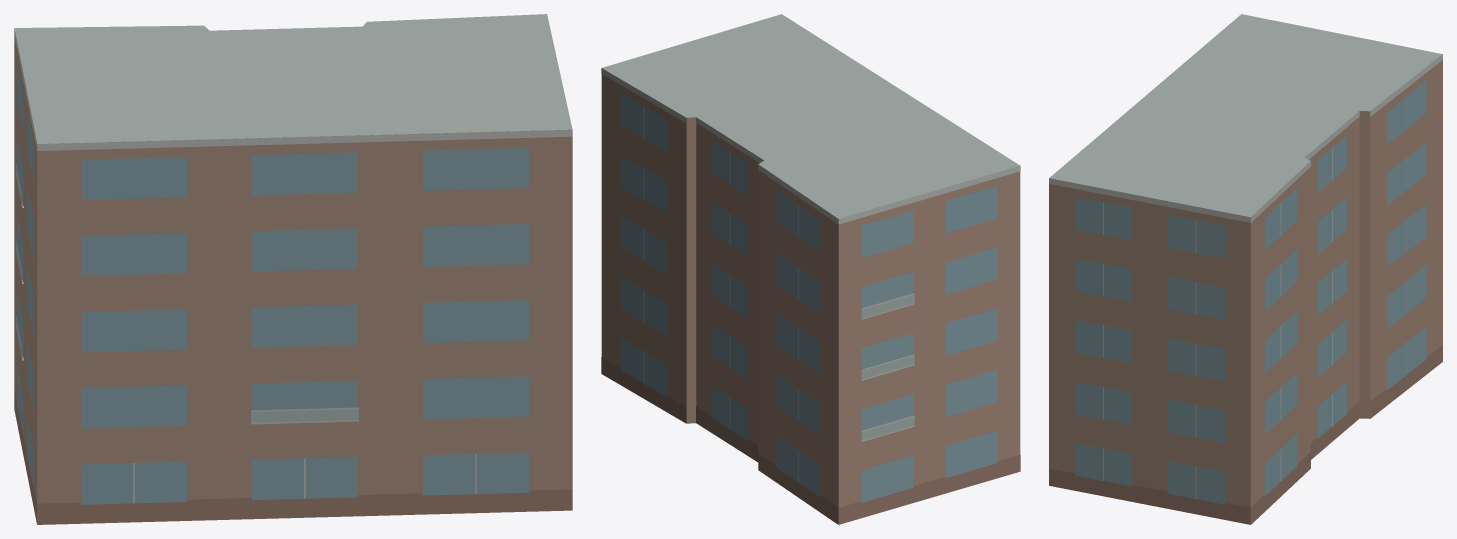
Rendered from survey-upis-32885864.glb.
The picture shows the model from 3 angles, left to right: view 1: azimuth 30°, elevation 25°; view 2: azimuth 150°, elevation 25°; view 3: azimuth 270°, elevation 25°; orthographic projection. The views are drawn at different scales.
Visible parts, largest first — view 1: survey-upis-32885864.tmp; view 2: survey-upis-32885864.tmp; view 3: survey-upis-32885864.tmp.
Part boxes in pixels (x1,y1,x2,y2): survey-upis-32885864.tmp: [14, 14, 572, 524]; survey-upis-32885864.tmp: [601, 14, 1020, 524]; survey-upis-32885864.tmp: [1049, 14, 1442, 524].
Size of the model in its own units: 18.72 by 13.2 by 15.32.
